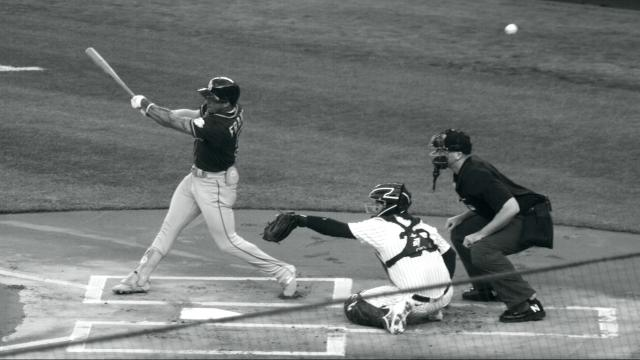ball: (506, 24, 520, 38)
bat: (82, 44, 134, 98)
